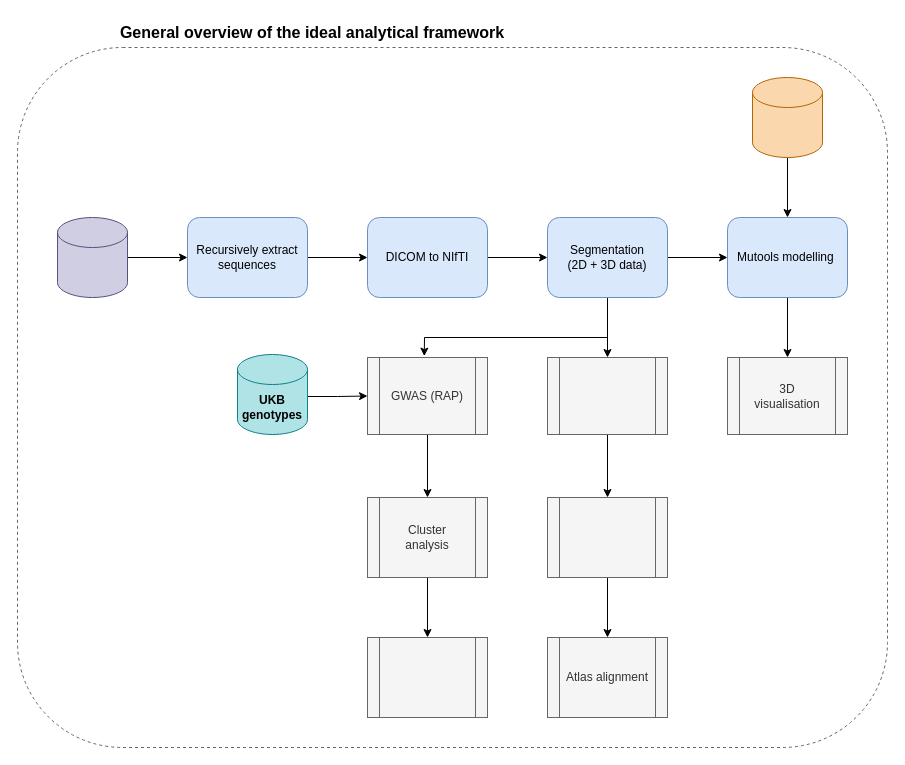
The diagram is 905 pixels wide and 765 high, and some of its shapes have lost their labels. Here are the shapes that lost their labels. From the top down, the box of each, then its label:
(752, 76, 822, 158): UKB non-imaging data
(56, 216, 128, 298): DICOM data
(546, 356, 668, 434): Shape constraint
(546, 496, 668, 578): Motion tracking
(366, 636, 488, 718): Interactive visualisation
